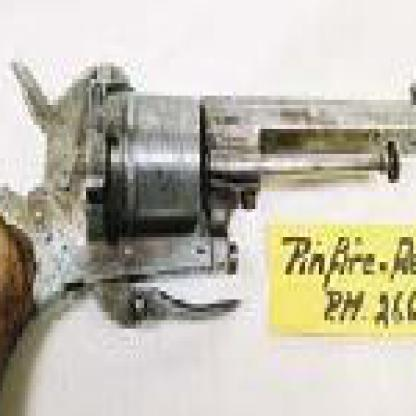gun: (0, 46, 413, 412)
